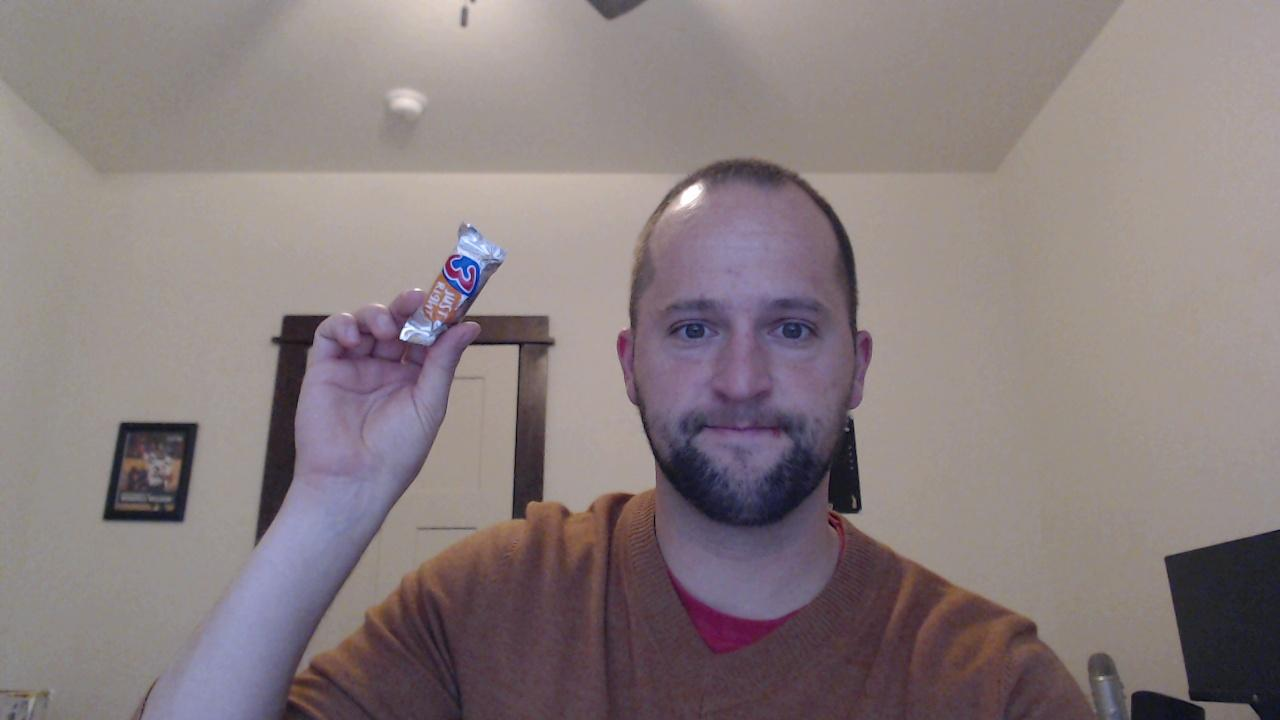musketeers: (397, 222, 508, 349)
